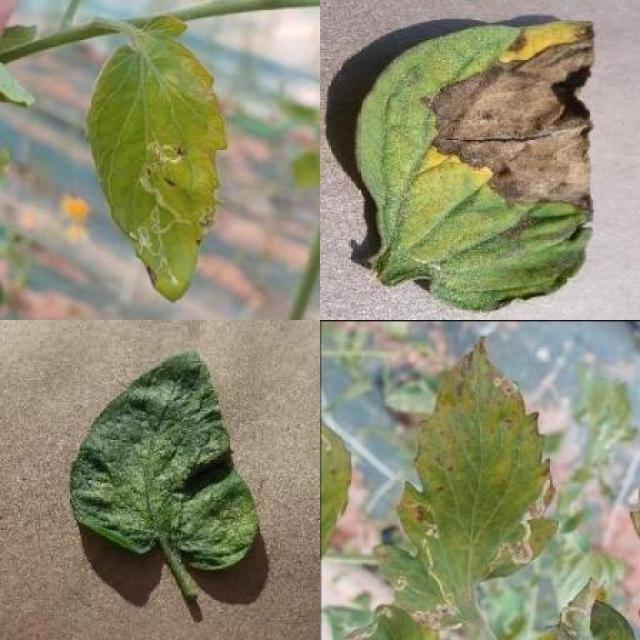Late Blight: (351, 18, 596, 312)
Leaf Miner: (373, 334, 560, 632), (85, 15, 228, 302)
Spider Mites: (72, 350, 259, 570)
